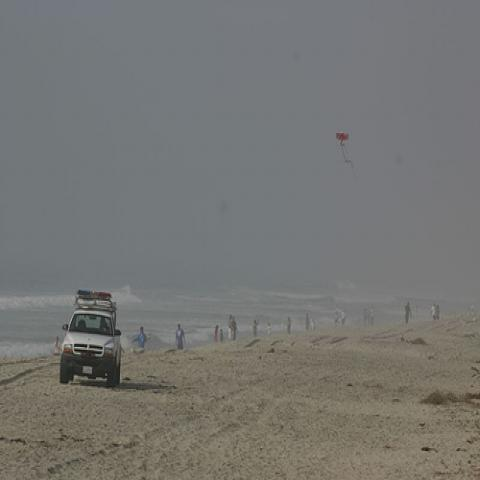truck: (57, 290, 122, 389)
